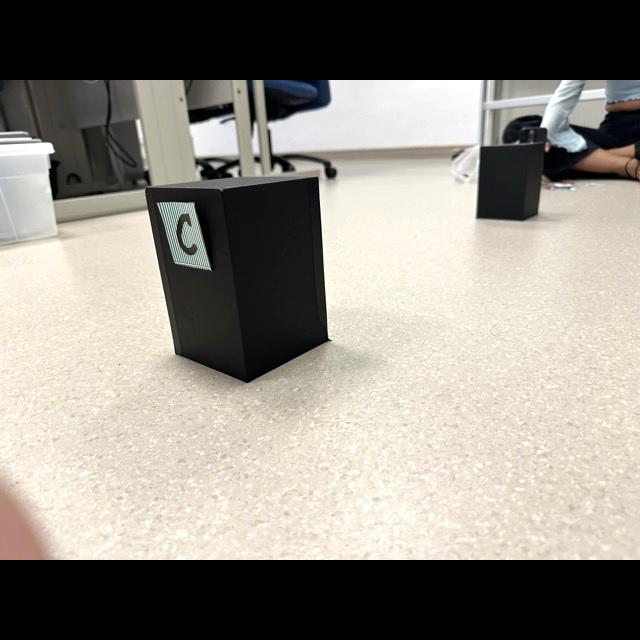C: (177, 213, 198, 255)
